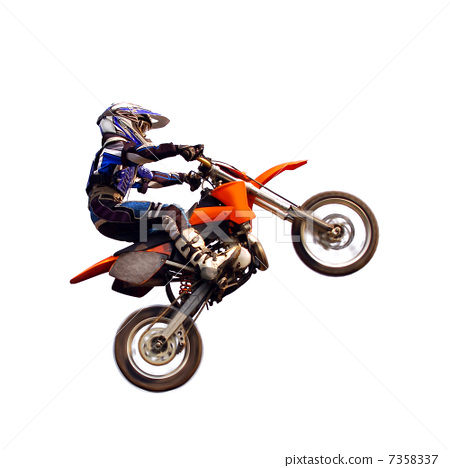helmet: (88, 101, 159, 150)
